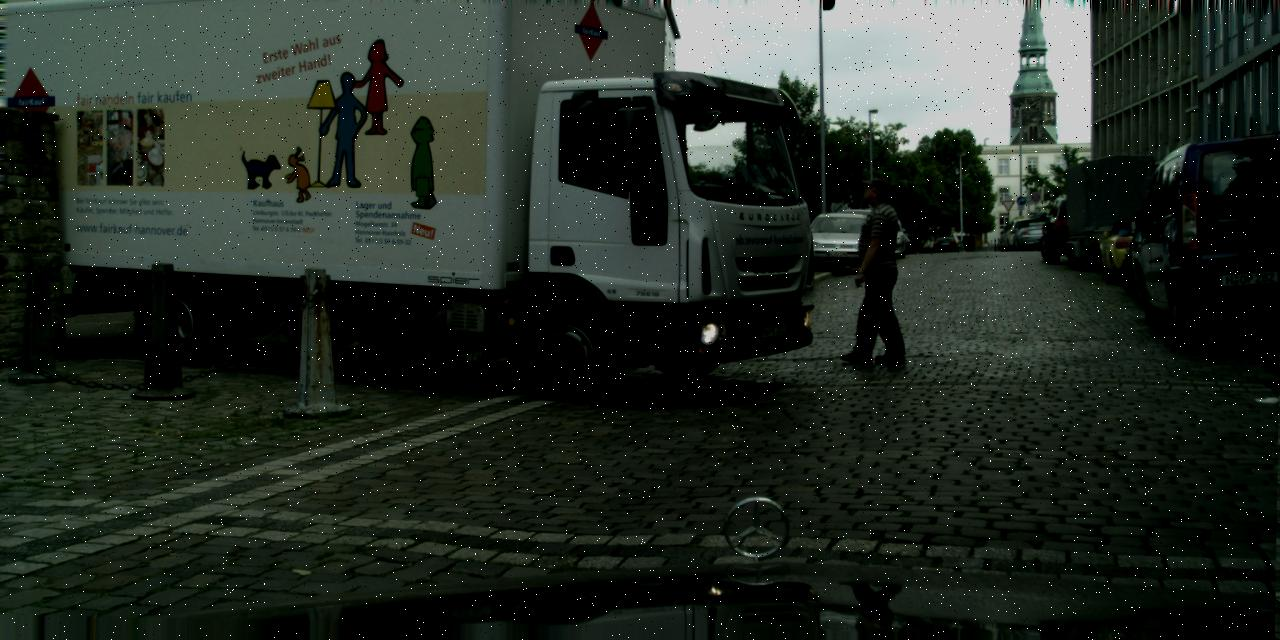ped: (839, 176, 915, 362), (986, 241, 989, 251)
